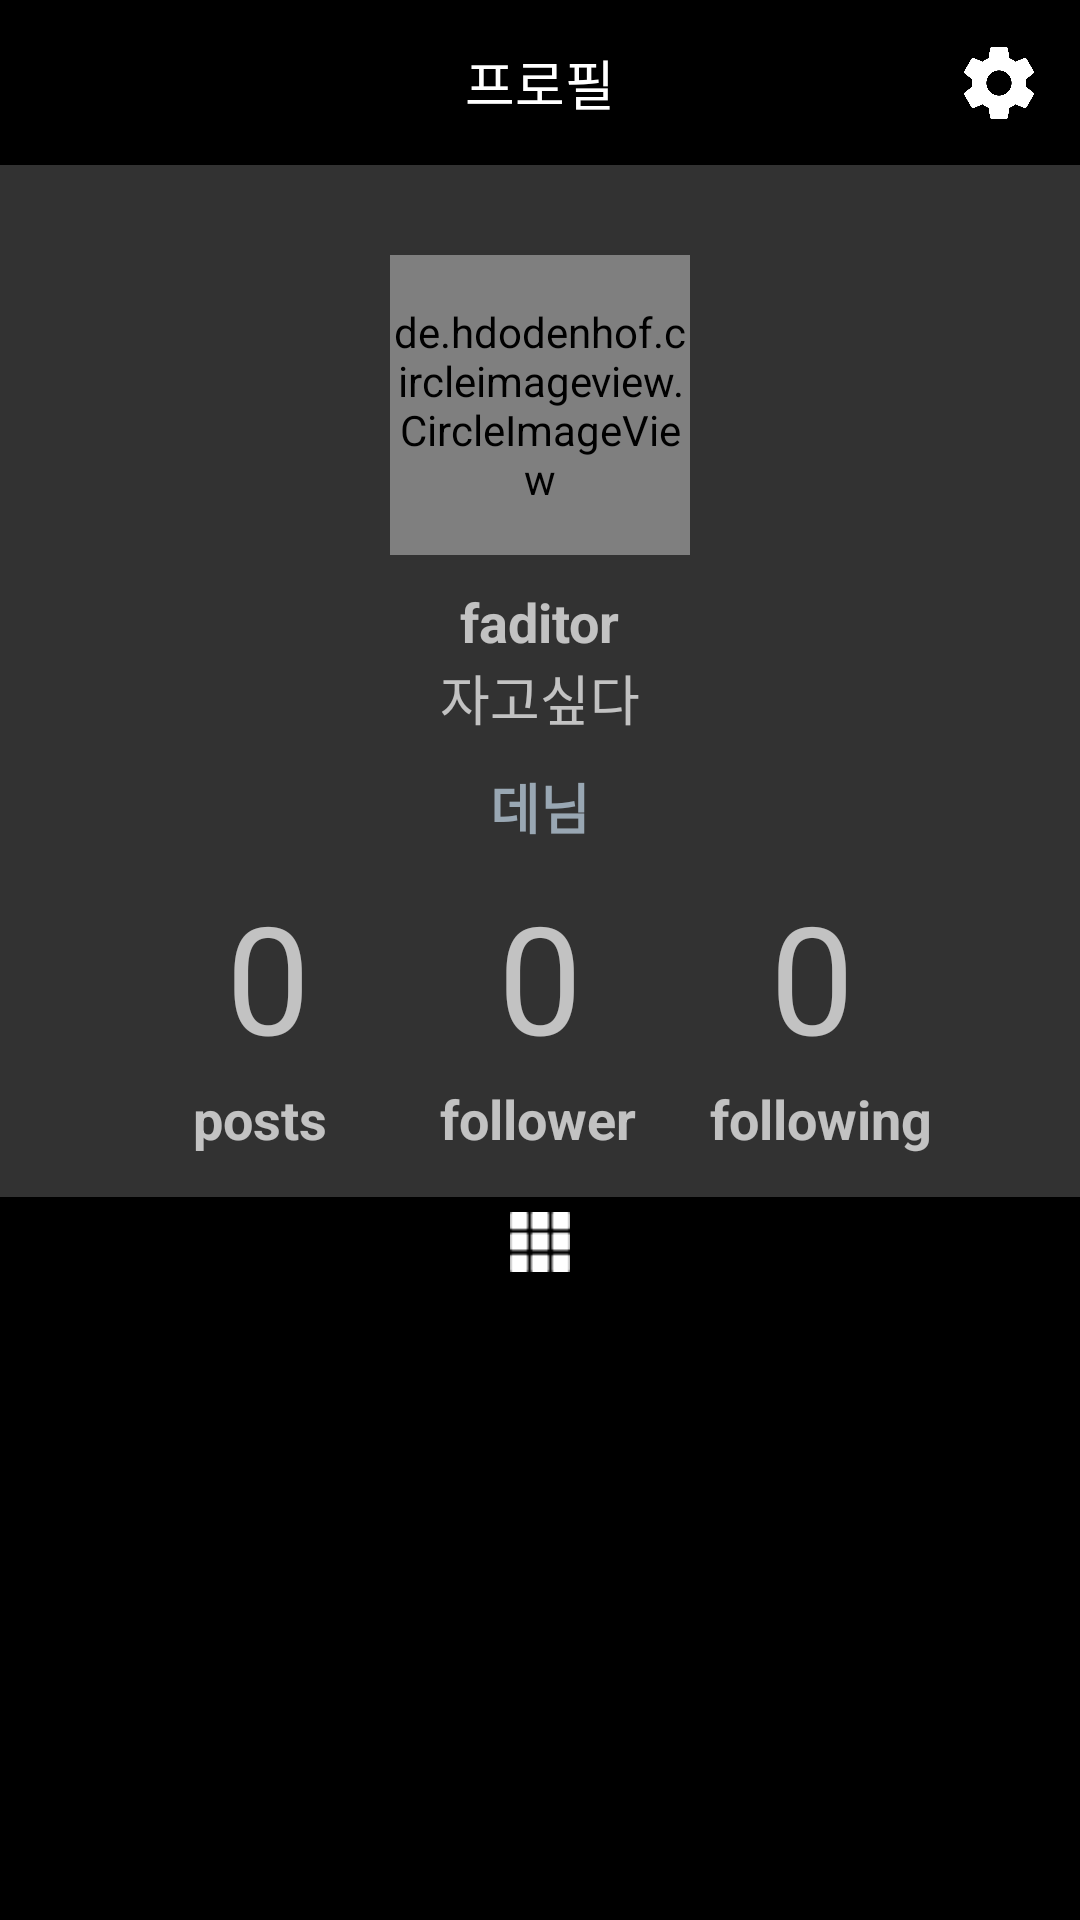

Icons on this 1080x1920 Android screen, each with its box as (x1, y1, x2, y2):
grid: (510, 1212, 570, 1272)
setting: (964, 47, 1034, 119)
